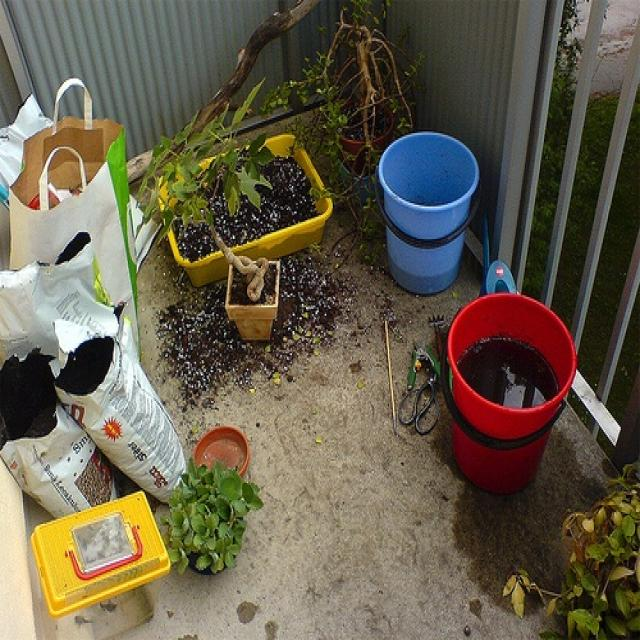pottedplant: (137, 112, 293, 362), (311, 5, 412, 234), (521, 462, 639, 638), (166, 458, 254, 576)
